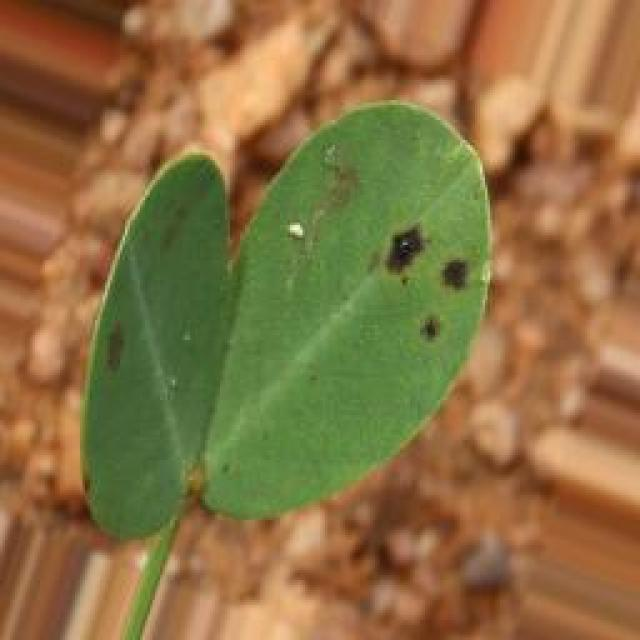Yellowish: (260, 125, 481, 397), (58, 150, 205, 403)
